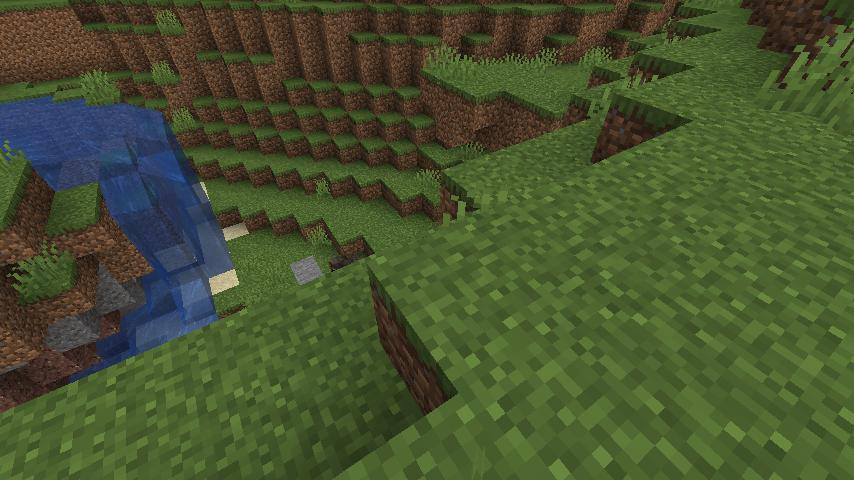spider: (327, 250, 363, 272)
